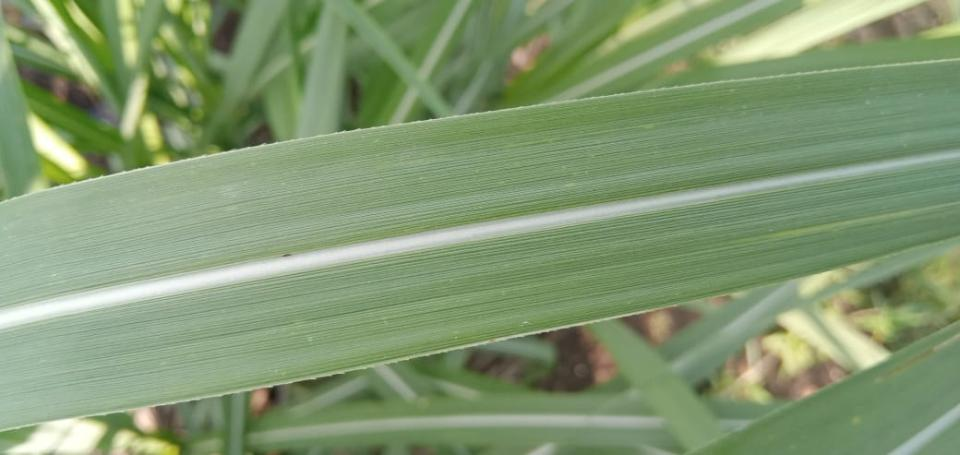Healthy: (0, 157, 959, 433), (0, 59, 959, 311), (696, 340, 959, 454), (847, 322, 959, 382)
Rust: (882, 348, 934, 381)
